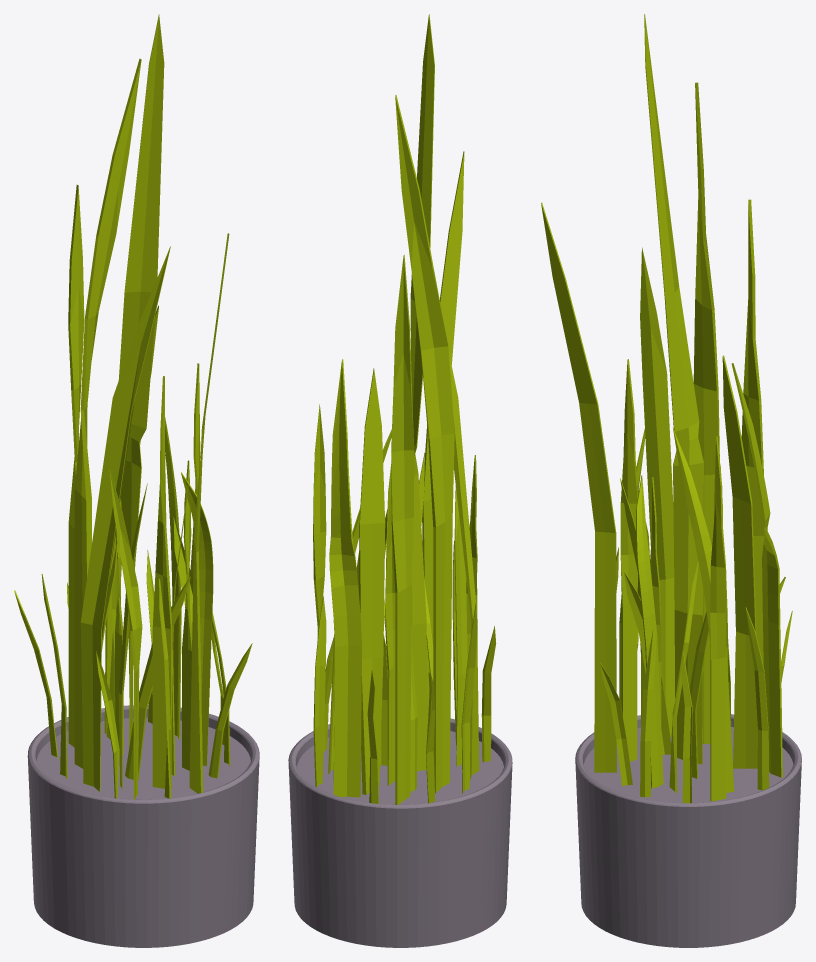
File: snake_plant.obj
3 views of the same model, side by side, from view 1: azimuth 30°, elevation 25°; view 2: azimuth 150°, elevation 25°; view 3: azimuth 270°, elevation 25° (orthographic). The views are drawn at different scales.
Visible parts, largest first — view 1: snake_plant_Snake_plant_Cylinder.000; view 2: snake_plant_Snake_plant_Cylinder.000; view 3: snake_plant_Snake_plant_Cylinder.000.
Boxes of the visible parts, <box> form: snake_plant_Snake_plant_Cylinder.000: <box>14,14,259,947</box>; snake_plant_Snake_plant_Cylinder.000: <box>288,14,512,947</box>; snake_plant_Snake_plant_Cylinder.000: <box>541,14,801,947</box>.
Bounding box in the file's own units: 0.0328 × 0.1414 × 0.0378.
